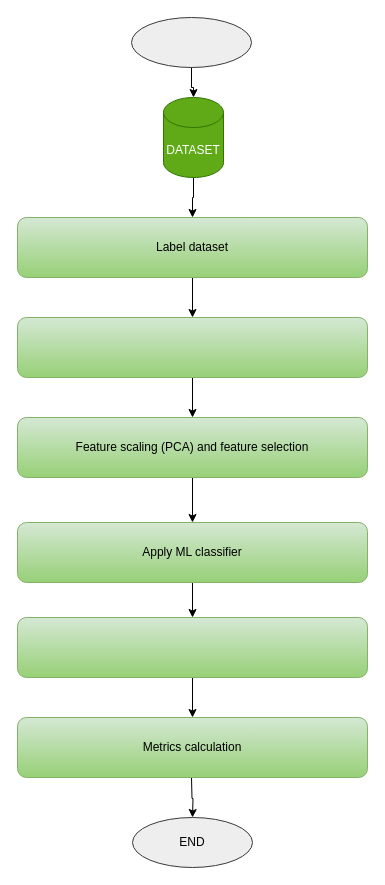
This 385x885 diagram has some shape labels left out. The shapes that lost their labels are listed below. From the top down, each one's centre as x and y in pixels, then its label:
(191,42): START
(192,347): Split dataset(training: 80%, testing: 20%)
(192,647): Prediction and testing the model
